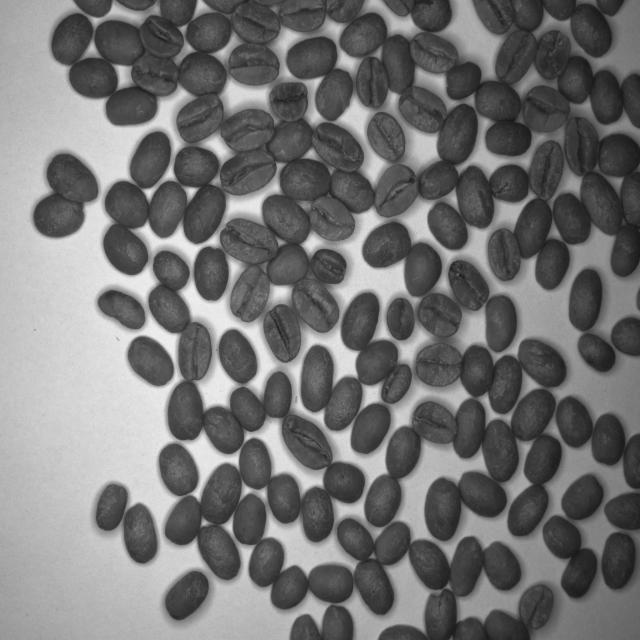bad: (520, 72, 572, 142), (530, 24, 573, 89)
good: (121, 334, 183, 400), (281, 406, 339, 476), (306, 115, 368, 177), (503, 190, 558, 258), (288, 271, 342, 340), (253, 192, 314, 252), (154, 563, 210, 628), (475, 220, 530, 286), (337, 280, 383, 358), (162, 372, 210, 446), (86, 281, 148, 338), (365, 160, 420, 224), (220, 217, 286, 270), (194, 522, 246, 589), (154, 438, 208, 502), (410, 17, 462, 81), (198, 456, 241, 533), (174, 314, 218, 389), (296, 338, 334, 424), (220, 39, 284, 90), (29, 188, 89, 242), (119, 495, 163, 568), (445, 253, 495, 317), (46, 151, 102, 208), (408, 336, 465, 392), (523, 135, 572, 200), (183, 179, 227, 251), (421, 466, 462, 543), (435, 98, 481, 166), (576, 173, 628, 233), (348, 558, 400, 618), (510, 382, 558, 447), (173, 86, 224, 147), (414, 284, 464, 346), (306, 195, 362, 250), (586, 64, 630, 134), (98, 175, 152, 232), (591, 121, 640, 183), (226, 260, 272, 326), (218, 325, 264, 391), (513, 565, 554, 639), (70, 48, 122, 106), (479, 285, 524, 352), (520, 330, 570, 390), (423, 195, 472, 256), (217, 104, 279, 152), (480, 115, 536, 168), (569, 1, 618, 61), (406, 396, 462, 448), (378, 28, 418, 100), (260, 304, 305, 368), (456, 161, 497, 231), (222, 148, 277, 200), (228, 0, 284, 51), (398, 85, 449, 141), (401, 231, 444, 297), (323, 448, 366, 514), (550, 188, 597, 248), (364, 467, 406, 534), (568, 258, 606, 332), (457, 470, 510, 523), (95, 223, 150, 274), (201, 402, 246, 464), (560, 470, 607, 529), (148, 180, 190, 246), (587, 402, 626, 473), (337, 10, 392, 60), (165, 488, 204, 558), (479, 415, 519, 483), (495, 23, 533, 94), (179, 9, 234, 58), (284, 35, 341, 82), (105, 86, 163, 132), (363, 110, 409, 168), (350, 399, 393, 461), (560, 114, 601, 179), (93, 19, 143, 72), (406, 538, 454, 593), (558, 544, 600, 606), (278, 155, 332, 203), (228, 376, 266, 444), (479, 535, 520, 598), (351, 52, 391, 116), (298, 478, 334, 549), (555, 392, 593, 459), (127, 52, 182, 98), (52, 9, 94, 69), (266, 238, 311, 294), (179, 52, 228, 103), (227, 491, 270, 549), (332, 167, 379, 220), (468, 79, 521, 126), (328, 366, 362, 439), (316, 63, 357, 123), (558, 52, 599, 112), (89, 476, 130, 536), (385, 419, 424, 482), (362, 218, 411, 268), (131, 128, 171, 189), (534, 236, 574, 297), (242, 536, 287, 590), (355, 334, 399, 389), (523, 431, 567, 486), (600, 530, 636, 597), (264, 470, 304, 530), (308, 556, 356, 606), (148, 246, 193, 299), (506, 484, 548, 540), (489, 155, 531, 210), (449, 533, 484, 599), (239, 431, 276, 493), (265, 119, 318, 162), (147, 282, 189, 336), (458, 336, 494, 399), (140, 12, 186, 61), (452, 395, 486, 461), (260, 81, 313, 123), (612, 209, 639, 291), (298, 248, 354, 287), (488, 350, 523, 412), (175, 144, 220, 192), (446, 51, 486, 105), (194, 244, 228, 307), (542, 512, 588, 558), (414, 153, 458, 201), (264, 365, 296, 431), (372, 518, 411, 572), (333, 516, 378, 562), (267, 562, 308, 610), (577, 331, 620, 376), (422, 583, 455, 640), (385, 293, 418, 347), (379, 360, 415, 407)
